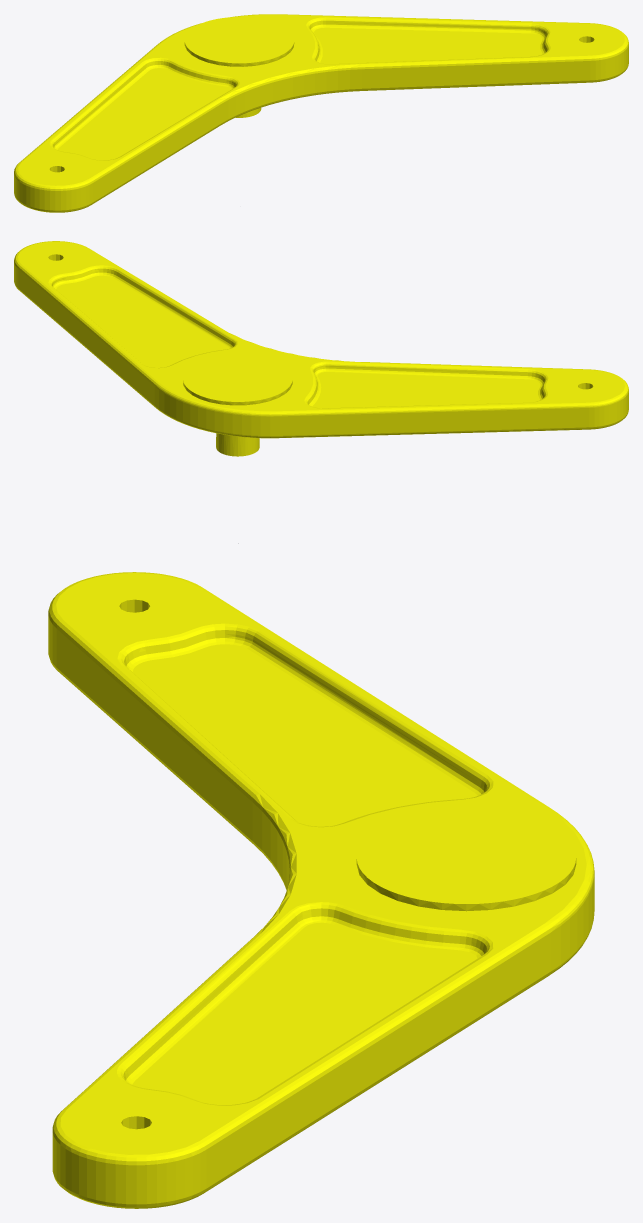
The picture shows the model from 3 angles, top to bottom: view 1: azimuth 30°, elevation 25°; view 2: azimuth 150°, elevation 25°; view 3: azimuth 270°, elevation 25°; orthographic projection. The views are drawn at different scales.
Visible parts, largest first — view 1: node; view 2: node; view 3: node.
Part boxes in pixels (x1,y1,x2,y2): node: [14, 14, 628, 212]; node: [14, 241, 628, 543]; node: [48, 572, 594, 1208].
Size of the model in its own units: 1141 by 299 by 447.
